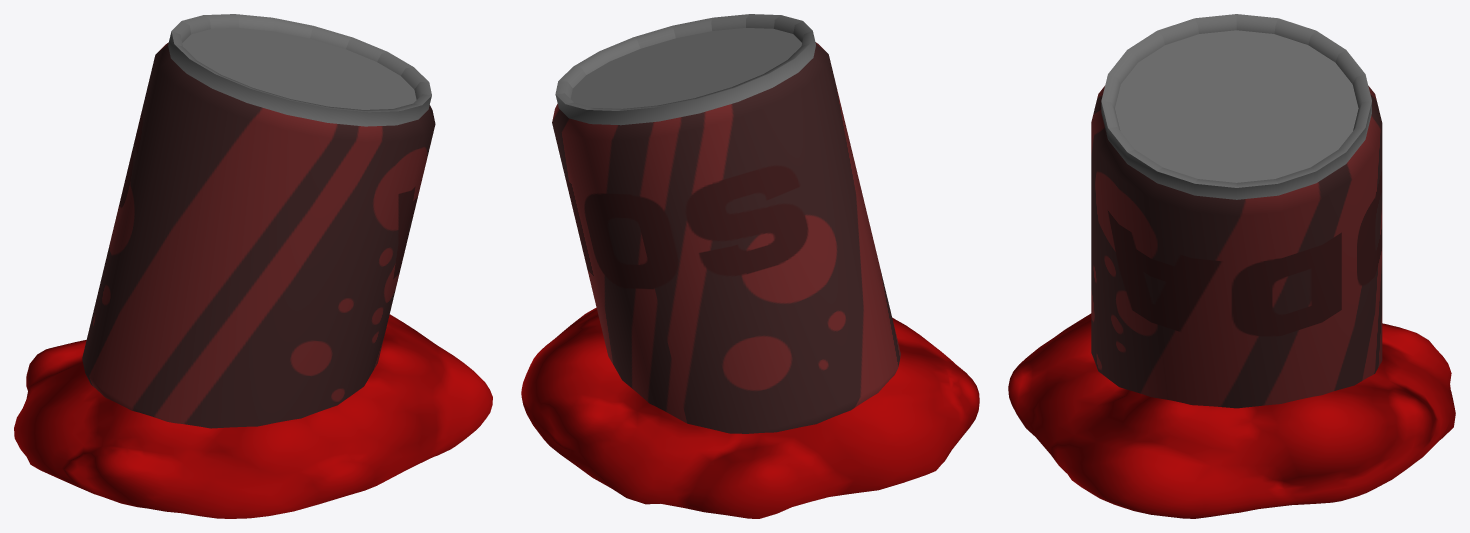
The model's file is SodaCanBlob.fbx.
3 views of the same model, side by side, from view 1: azimuth 30°, elevation 25°; view 2: azimuth 150°, elevation 25°; view 3: azimuth 270°, elevation 25° (orthographic). The views are drawn at different scales.
Parts seen in each view (by area): view 1: pCylinder3; view 2: pCylinder3; view 3: pCylinder3.
Boxes of the visible parts, x1,y1,x2,y2 form: pCylinder3: [14, 14, 492, 518]; pCylinder3: [521, 14, 979, 518]; pCylinder3: [1008, 14, 1455, 518].
Bounding box in the file's own units: 3.64 × 3.39 × 3.42.
